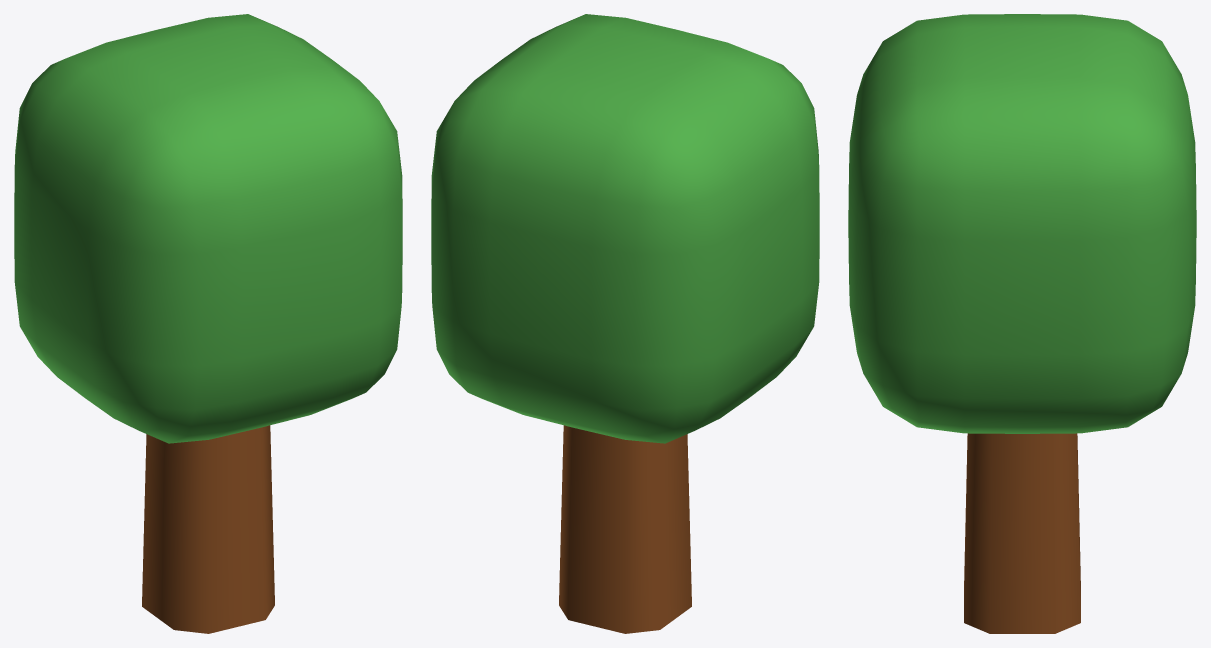
File: tree02_s01.FBX
3 views of the same model, side by side, from view 1: azimuth 30°, elevation 25°; view 2: azimuth 150°, elevation 25°; view 3: azimuth 270°, elevation 25° (orthographic). The views are drawn at different scales.
Parts seen in each view (by area): view 1: tree02_s01; view 2: tree02_s01; view 3: tree02_s01.
Boxes of the visible parts, bbox=[...] form: tree02_s01: bbox=[14, 14, 402, 633]; tree02_s01: bbox=[431, 14, 819, 633]; tree02_s01: bbox=[848, 14, 1196, 633].
Bounding box in the file's own units: 180 × 178 × 314.
1 material, 1 textured.
